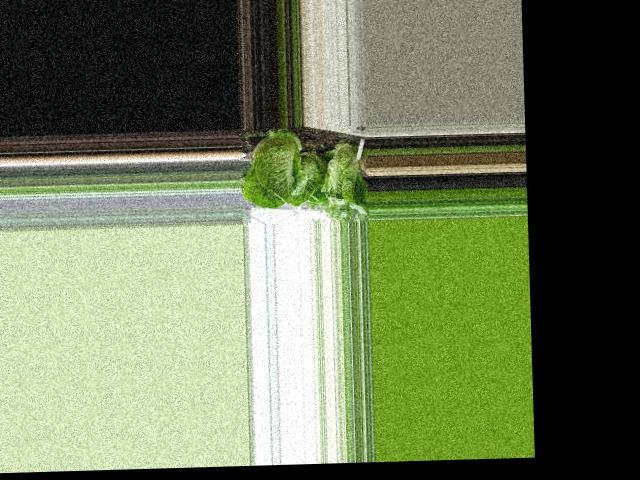lettuce: (318, 132, 363, 214)
